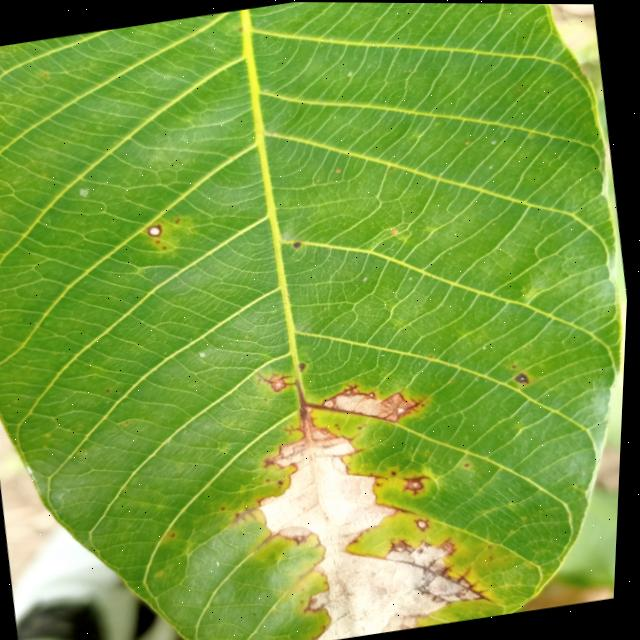Colletotrichum: (148, 224, 167, 238), (295, 241, 305, 249), (317, 597, 323, 603)
Corynespora: (404, 545, 501, 615), (297, 372, 367, 422), (381, 386, 438, 426), (257, 365, 301, 396), (399, 472, 439, 499), (235, 504, 265, 525)
Leaf-Blight: (248, 395, 493, 640), (339, 388, 401, 430)
